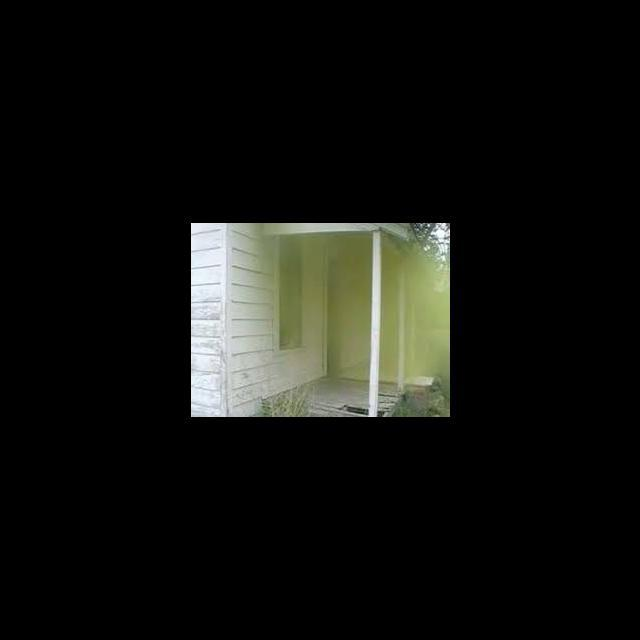Smoke: (328, 250, 450, 378)
